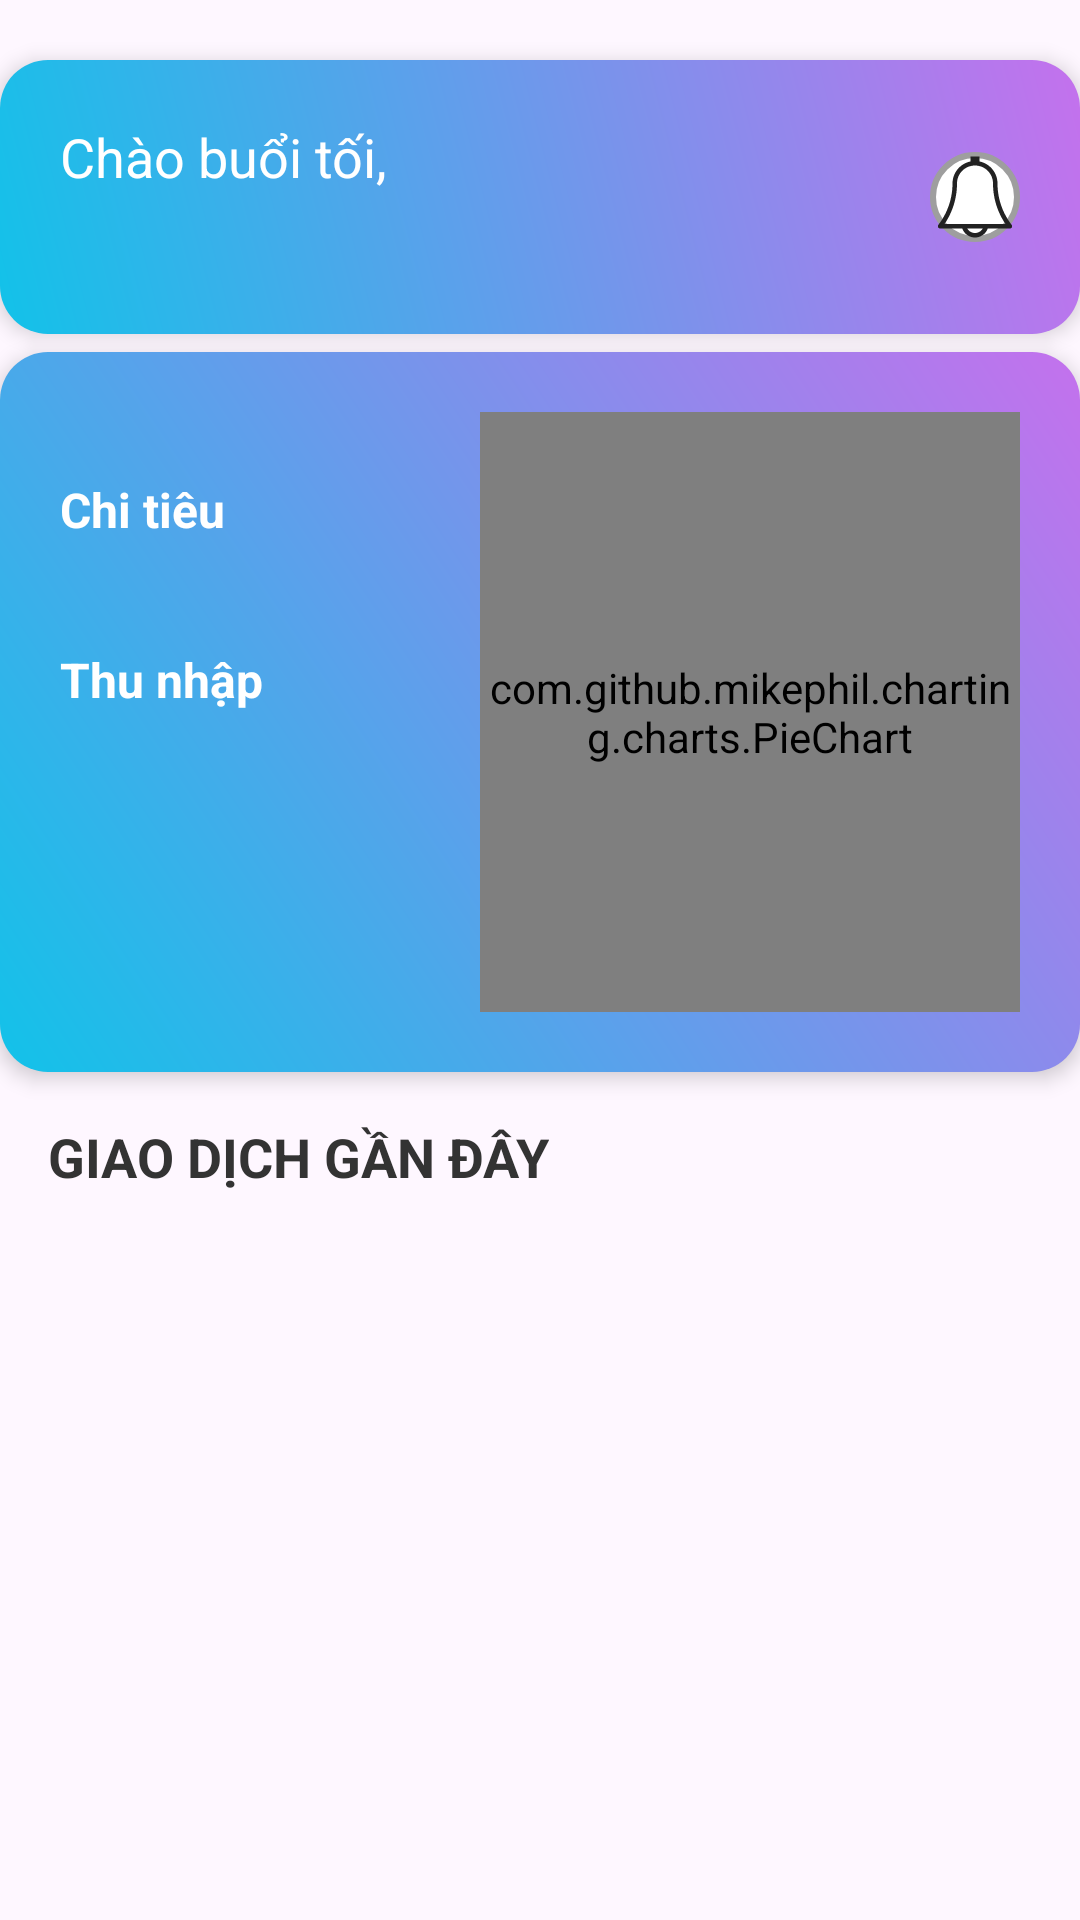

Icons on this 1080×1920 Android screen, each with its box as detection(x1, y1, x2, y2):
bell: detection(930, 152, 1020, 242)
